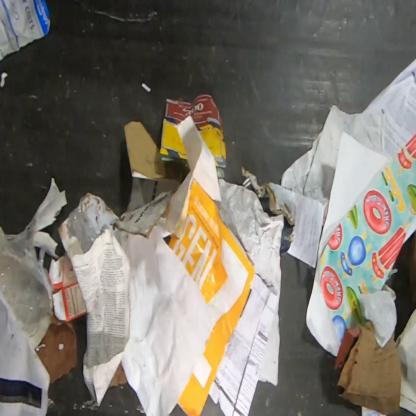cardboard: (160, 93, 226, 168), (241, 167, 296, 242), (124, 121, 166, 181), (50, 254, 87, 322)
soft_plastic: (0, 215, 53, 350), (69, 207, 99, 254)
